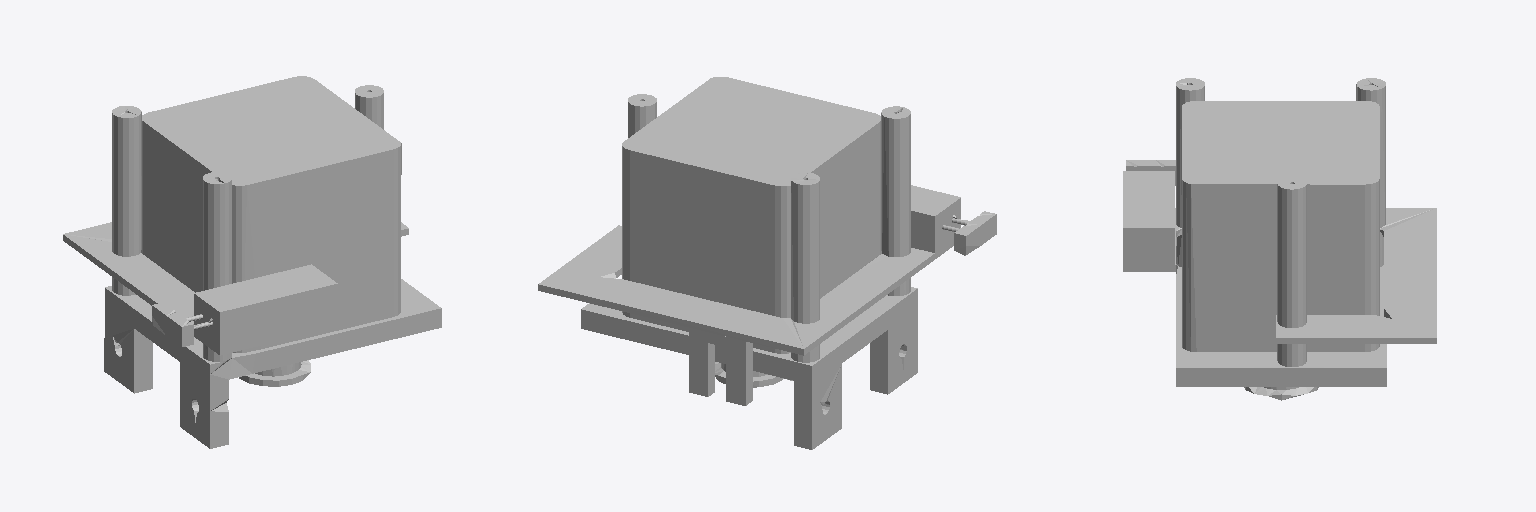
Rendered from xMotor.obj.
3 views of the same model, side by side, from view 1: azimuth 30°, elevation 25°; view 2: azimuth 150°, elevation 25°; view 3: azimuth 270°, elevation 25° (orthographic).
Visible parts, largest first — view 1: object_3, object_1; view 2: object_3, object_1, object_2; view 3: object_3, object_1.
Boxes of the visible parts, box(x1,y1,x2,y2) form: object_3: box(63, 76, 441, 448); object_1: box(152, 264, 337, 348); object_3: box(538, 77, 953, 449); object_1: box(911, 185, 996, 255); object_2: box(689, 328, 752, 405); object_3: box(1123, 78, 1436, 400); object_1: box(1123, 160, 1175, 264).
Bounding box in the file's own units: 2.91 × 2.41 × 2.62.